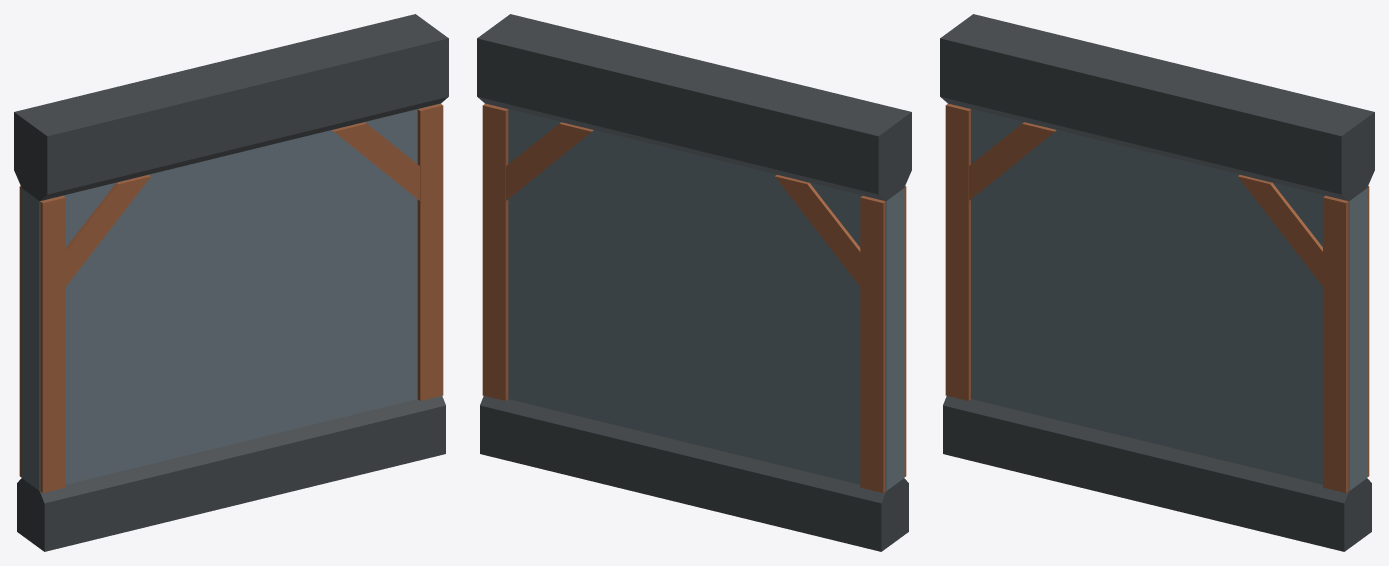
The model's file is wall_2_5.glb.
The picture shows the model from 3 angles, left to right: view 1: azimuth 30°, elevation 25°; view 2: azimuth 150°, elevation 25°; view 3: azimuth 330°, elevation 25°; orthographic projection.
Visible parts, largest first — view 1: wall_2_5; view 2: wall_2_5; view 3: wall_2_5.
Boxes of the visible parts, <box> form: wall_2_5: <box>14,14,448,551</box>; wall_2_5: <box>477,14,911,551</box>; wall_2_5: <box>940,14,1374,551</box>.
Size of the model in its own units: 1.54 by 1.53 by 0.2209.
Materials: 1 (1 with a texture image).
